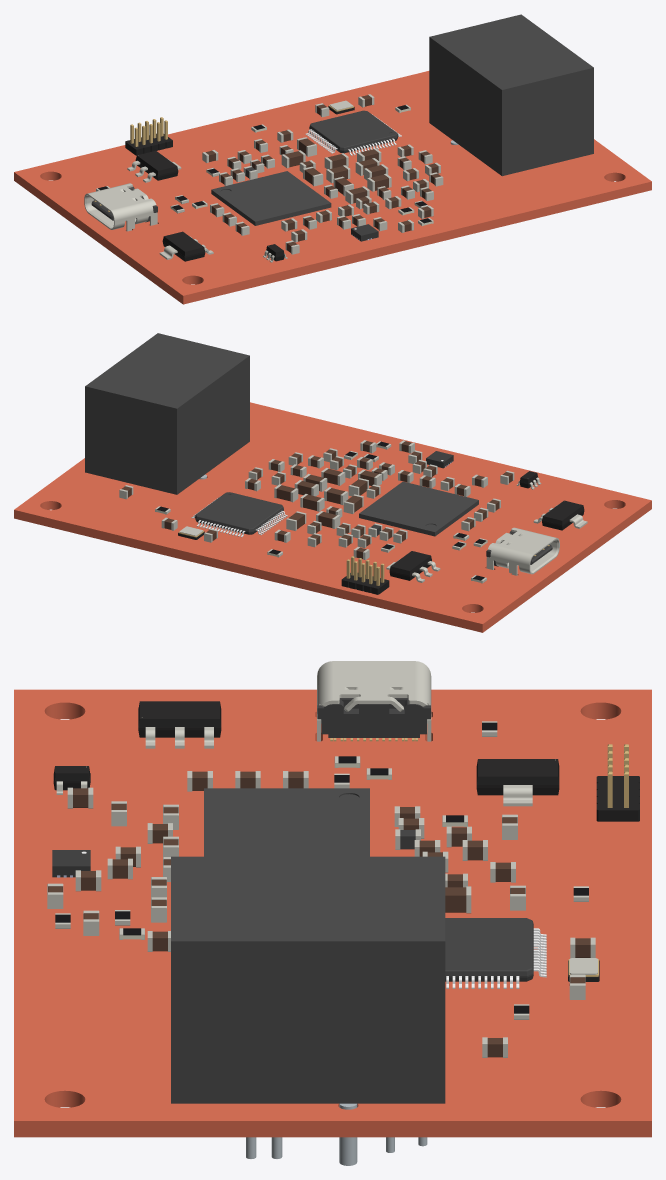
The model's file is High_Speed_Ethernet_Interface.glb.
The picture shows the model from 3 angles, top to bottom: view 1: azimuth 30°, elevation 25°; view 2: azimuth 150°, elevation 25°; view 3: azimuth 270°, elevation 25°; orthographic projection. The views are drawn at different scales.
Visible parts, largest first — view 1: =>[0:1:1:15], =>[0:1:1:2], =>[0:1:1:218], J1, BODY-QFP, J2, U4, U1; view 2: =>[0:1:1:15], =>[0:1:1:2], =>[0:1:1:218], J1, BODY-QFP, J2, U4, U1; view 3: =>[0:1:1:15], =>[0:1:1:2], =>[0:1:1:218], J1, BODY-QFP, U1, U4, J2, =>[0:1:1:4], U3, U2, C39.
Part boxes in pixels (bbox=[...]): =>[0:1:1:15]: bbox=[14, 71, 651, 304]; =>[0:1:1:2]: bbox=[429, 14, 593, 176]; =>[0:1:1:218]: bbox=[211, 171, 331, 225]; J1: bbox=[84, 183, 157, 231]; BODY-QFP: bbox=[309, 110, 398, 153]; J2: bbox=[125, 117, 172, 155]; U4: bbox=[127, 150, 181, 182]; U1: bbox=[159, 231, 213, 261]; =>[0:1:1:15]: bbox=[14, 402, 651, 632]; =>[0:1:1:2]: bbox=[85, 333, 249, 494]; =>[0:1:1:218]: bbox=[359, 481, 478, 536]; J1: bbox=[486, 527, 559, 575]; BODY-QFP: bbox=[195, 492, 283, 534]; J2: bbox=[341, 556, 389, 594]; U4: bbox=[386, 551, 440, 582]; U1: bbox=[533, 500, 587, 530]; =>[0:1:1:15]: bbox=[14, 689, 651, 1137]; =>[0:1:1:2]: bbox=[171, 856, 445, 1103]; =>[0:1:1:218]: bbox=[204, 788, 369, 856]; J1: bbox=[317, 661, 431, 741]; BODY-QFP: bbox=[445, 918, 533, 981]; U1: bbox=[138, 701, 221, 748]; U4: bbox=[476, 759, 559, 806]; J2: bbox=[596, 744, 639, 821]; =>[0:1:1:4]: bbox=[246, 1103, 427, 1165]; U3: bbox=[52, 850, 90, 877]; U2: bbox=[53, 766, 90, 794]; C39: bbox=[445, 886, 471, 913].
Size of the model in its own units: 0.08 by 0.0192 by 0.05.
